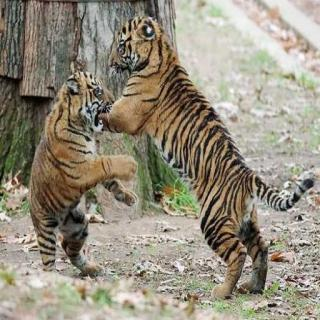Tiger: (103, 9, 320, 304), (6, 63, 119, 275)
